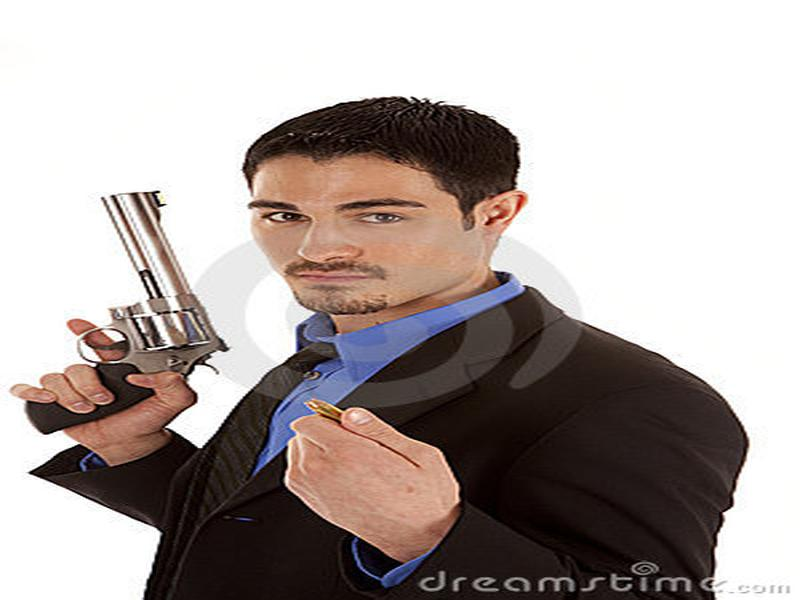Revolver: (65, 172, 236, 410)
